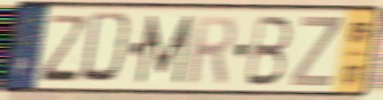B: (242, 13, 294, 89)
D: (77, 9, 137, 88)
M: (135, 13, 195, 87)
R: (186, 13, 238, 87)
Z: (287, 14, 344, 89), (37, 12, 91, 85)
